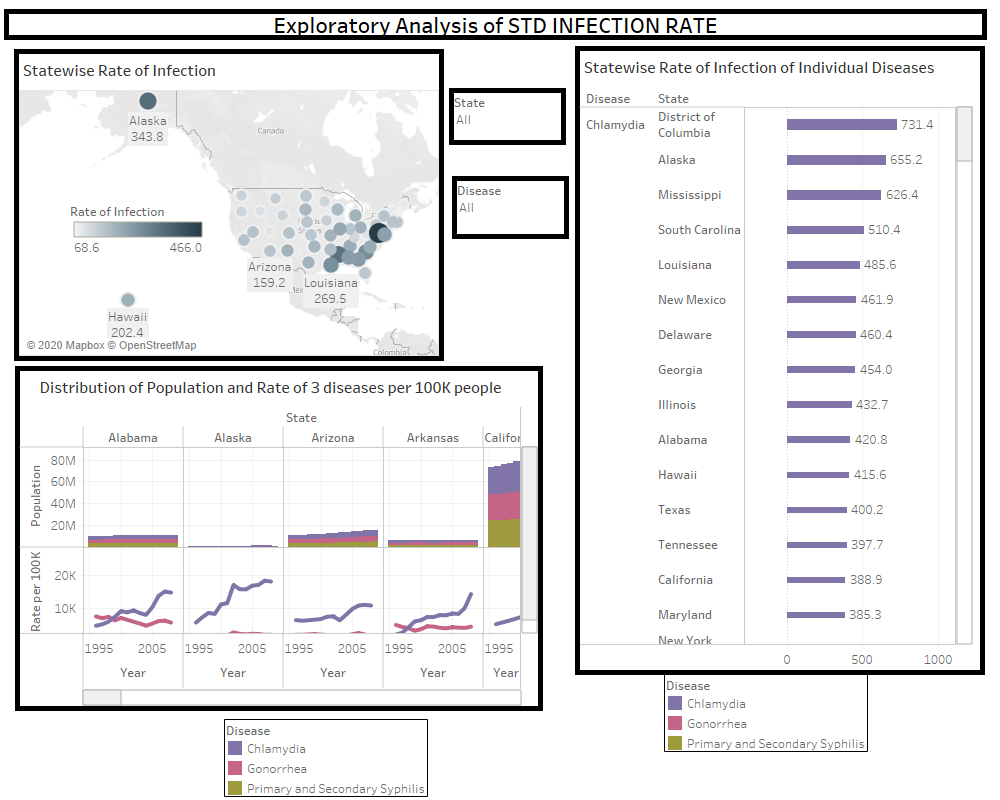

What the dashboard file says about the page in this screenshot:
{"tool":"tableau","page":{"name":"Dashboard 1-Explanatory Analysis1","canvas":[1000,800],"ordinal":0},"visuals":[{"type":"text","box":[4,9,983,31]},{"type":"worksheet","title":"Statewise Rate of Infection of Individual Diseases","mark":"Automatic","rows":["Disease","State"],"cols":["Calculation_776589499331907587"],"box":[575,46,410,629]},{"type":"worksheet","title":"Statewise Rate of Infection","mark":"Automatic","box":[14,49,430,312]},{"type":"filter","title":"Statewise Rate of Infection","param":"[federated.0xqixnj0r6fqj91d3btuv1f5p7yg].[none:State:nk]","box":[449,88,117,57]},{"type":"filter","title":"Statewise Rate of Infection","param":"[federated.0xqixnj0r6fqj91d3btuv1f5p7yg].[none:Disease:nk]","box":[452,176,117,63]},{"type":"legend","title":"Statewise Rate of Infection","param":"[federated.0xqixnj0r6fqj91d3btuv1f5p7yg].[usr:Calculation_776589499331907587:qk]","box":[70,199,137,54]},{"type":"worksheet","title":"Distribution of Population and Rate of 3 diseases per 100K people","mark":"Line","rows":["Population","Rate per 100K"],"cols":["State","Year"],"box":[15,366,528,345]},{"type":"legend","title":"Statewise Rate of Infection of Individual Diseases","param":"[federated.0xqixnj0r6fqj91d3btuv1f5p7yg].[none:Disease:nk]","box":[664,674,204,78]},{"type":"legend","title":"Distribution of Population and Rate of 3 diseases per 100K people","param":"[federated.0xqixnj0r6fqj91d3btuv1f5p7yg].[none:Disease:nk]","box":[224,719,204,78]}]}

Visuals, with their boxes in screenshot pixels (x1, y1, x2, y2), scaled from the page's 1000x800 canvas onto the 1000x800 screenshot:
text: box=[4, 9, 987, 40]
"Statewise Rate of Infection of Individual Diseases" worksheet: box=[575, 46, 985, 675]
"Statewise Rate of Infection" worksheet: box=[14, 49, 444, 361]
"Statewise Rate of Infection" filter: box=[449, 88, 566, 145]
"Statewise Rate of Infection" filter: box=[452, 176, 569, 239]
"Statewise Rate of Infection" legend: box=[70, 199, 207, 253]
"Distribution of Population and Rate of 3 diseases per 100K people" worksheet (Line marks): box=[15, 366, 543, 711]
"Statewise Rate of Infection of Individual Diseases" legend: box=[664, 674, 868, 752]
"Distribution of Population and Rate of 3 diseases per 100K people" legend: box=[224, 719, 428, 797]
